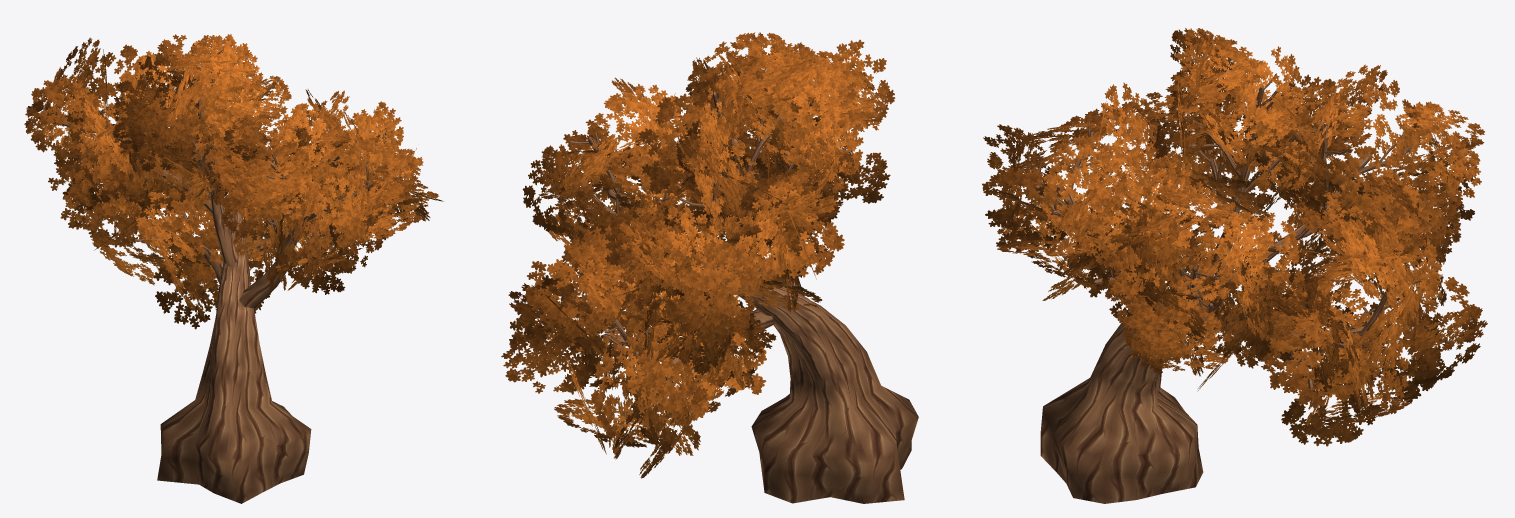
The model's file is ct_maple_1.gltf.
3 views of the same model, side by side, from view 1: azimuth 30°, elevation 25°; view 2: azimuth 150°, elevation 25°; view 3: azimuth 270°, elevation 25° (orthographic). The views are drawn at different scales.
Parts seen in each view (by area): view 1: ct_maple_1_leaves_LOD0, ct_maple_1_trunk_LOD0; view 2: ct_maple_1_leaves_LOD0, ct_maple_1_trunk_LOD0; view 3: ct_maple_1_leaves_LOD0, ct_maple_1_trunk_LOD0.
Part boxes in pixels (x1,y1,x2,y2): ct_maple_1_leaves_LOD0: (24, 34, 443, 329); ct_maple_1_trunk_LOD0: (59, 53, 386, 503); ct_maple_1_leaves_LOD0: (501, 32, 895, 478); ct_maple_1_trunk_LOD0: (569, 87, 918, 503); ct_maple_1_leaves_LOD0: (982, 28, 1487, 446); ct_maple_1_trunk_LOD0: (1025, 73, 1428, 503).
Size of what is drawn, in the model's own units: 7.84 by 9.1 by 9.78.
Materials: 2 (2 with a texture image).
